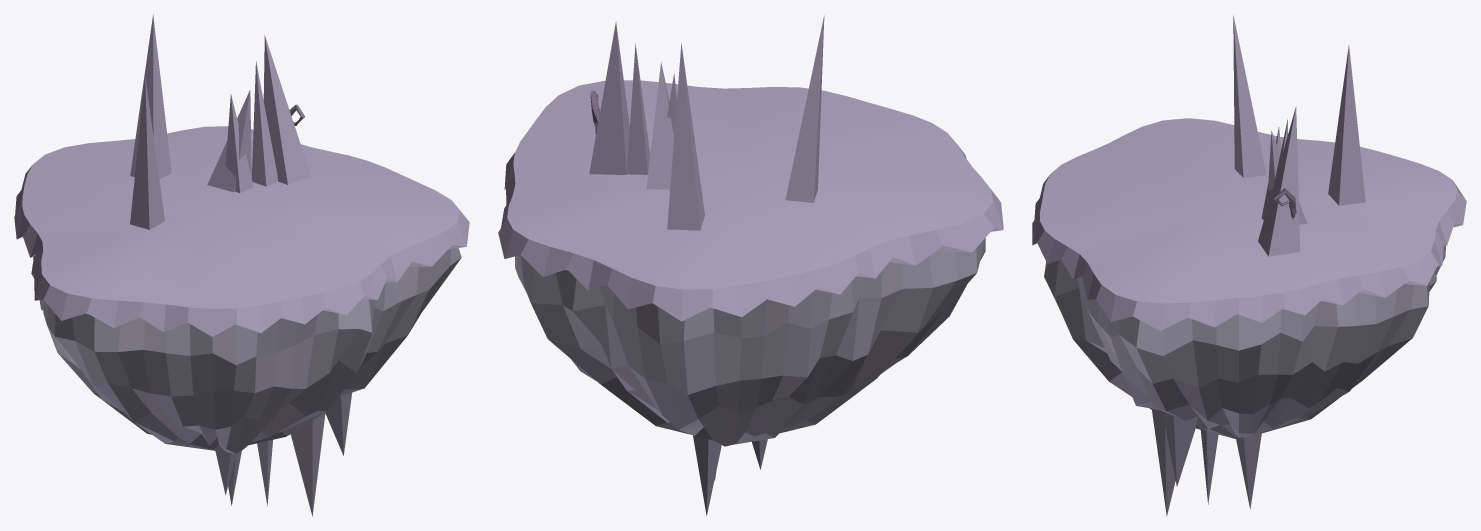
File: island_spooky.glb
3 renders of one model, left to right at view 1: azimuth 30°, elevation 25°; view 2: azimuth 150°, elevation 25°; view 3: azimuth 270°, elevation 25°, orthographic. The views are drawn at different scales.
Visible parts, largest first — view 1: SpookyIsland; view 2: SpookyIsland; view 3: SpookyIsland.
Part boxes in pixels (box(x1,y1,x2,y2)): SpookyIsland: box(14, 14, 469, 516); SpookyIsland: box(498, 15, 1003, 516); SpookyIsland: box(1032, 15, 1466, 516).
Bounding box in the file's own units: 19.94 × 21.83 × 18.99.
